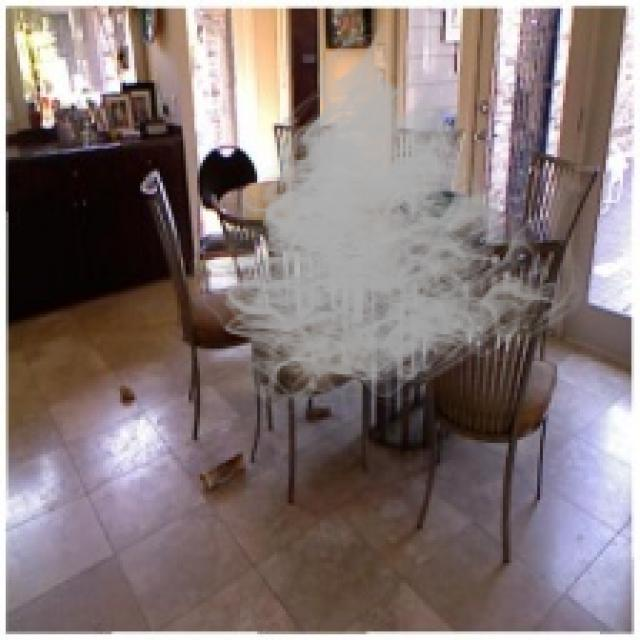smoke: (188, 23, 592, 426)
